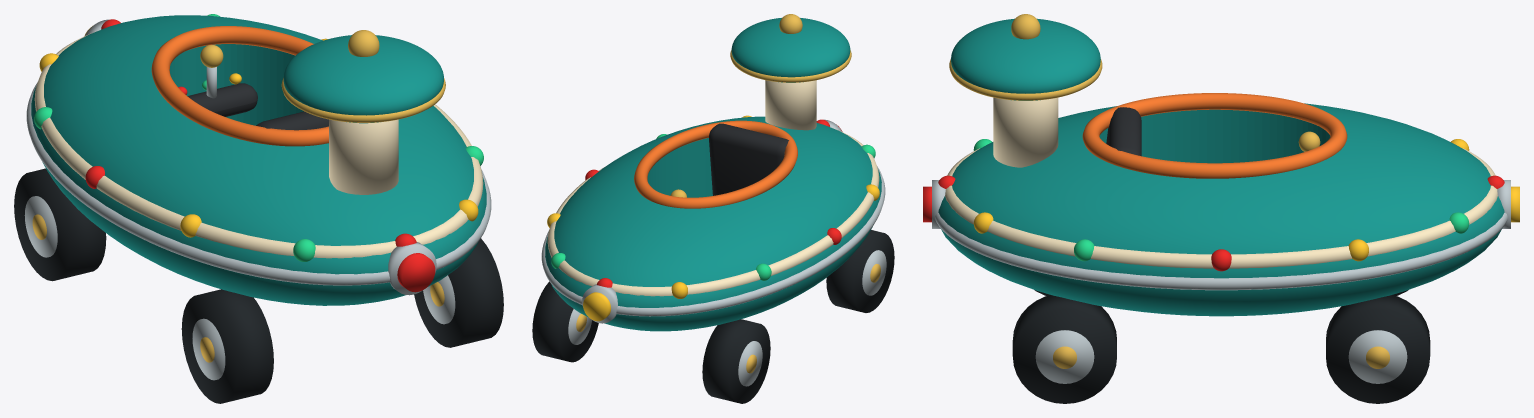
File: ufo-studie.glb
3 renders of one model, left to right at view 1: azimuth 30°, elevation 25°; view 2: azimuth 150°, elevation 25°; view 3: azimuth 270°, elevation 25°, orthographic. The views are drawn at different scales.
Parts seen in each view (by area): view 1: Schotel carrosserie, Kap, Band.001, Lichte band, Cockpitrand, Chroom stootrand, Band, Band.003, Kap steun, Dashboard, Kap rand, Velg.001 (+7 smaller); view 2: Schotel carrosserie, Kap, Cockpitrand, Stoelleuning, Band, Lichte band, Chroom stootrand, Band.001, Band.002, Kap steun, Kap rand, Velg (+5 smaller); view 3: Schotel carrosserie, Cockpitrand, Kap, Lichte band, Chroom stootrand, Band.002, Band.003, Kap steun, Velg.002, Velg.003, Stoelleuning, Kap rand (+1 smaller).
Boxes of the visible parts, x1,y1,x2,y2 form: Schotel carrosserie: (31, 15, 486, 305); Kap: (283, 35, 443, 123); Band.001: (181, 289, 273, 403); Lichte band: (34, 32, 483, 258); Cockpitrand: (151, 26, 328, 146); Chroom stootrand: (26, 82, 491, 285); Band: (14, 168, 106, 281); Band.003: (414, 238, 503, 347); Kap steun: (329, 119, 398, 194); Dashboard: (187, 83, 257, 116); Kap rand: (281, 78, 445, 122); Velg.001: (192, 318, 225, 380); Schotel carrosserie: (545, 116, 881, 331); Kap: (731, 18, 850, 82); Cockpitrand: (634, 120, 797, 208); Stoelleuning: (708, 123, 788, 195); Band: (702, 319, 770, 403); Lichte band: (547, 129, 879, 296); Chroom stootrand: (541, 166, 885, 316); Band.001: (826, 230, 894, 312); Band.002: (532, 281, 598, 362); Kap steun: (765, 80, 816, 130); Kap rand: (730, 50, 851, 82); Velg: (738, 341, 762, 386); Schotel carrosserie: (938, 103, 1504, 316); Cockpitrand: (1082, 93, 1347, 178); Kap: (951, 18, 1100, 100); Lichte band: (945, 148, 1497, 268); Chroom stootrand: (935, 212, 1507, 290); Band.002: (1326, 295, 1430, 403); Band.003: (1012, 295, 1116, 403); Kap steun: (993, 97, 1058, 167); Velg.002: (1348, 330, 1407, 383); Velg.003: (1035, 330, 1094, 383); Stoelleuning: (1106, 107, 1141, 156); Kap rand: (949, 59, 1102, 100).
Size of the model in its own units: 1.14 by 1.11 by 1.83.
